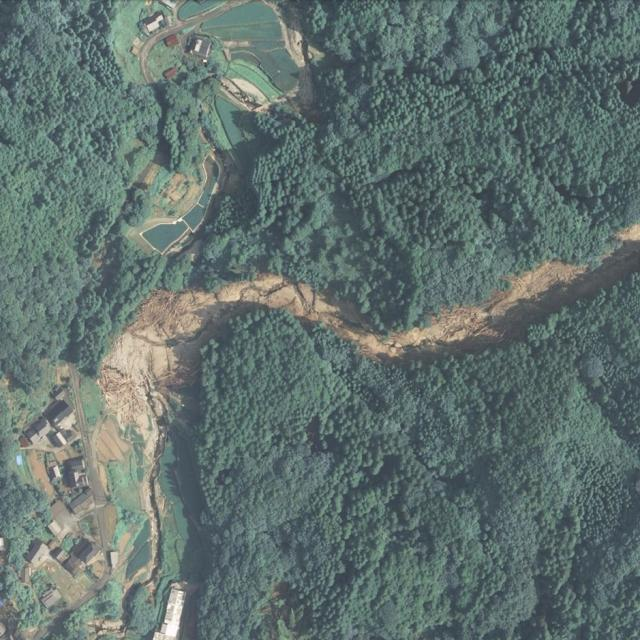landslide: (98, 225, 640, 457)
